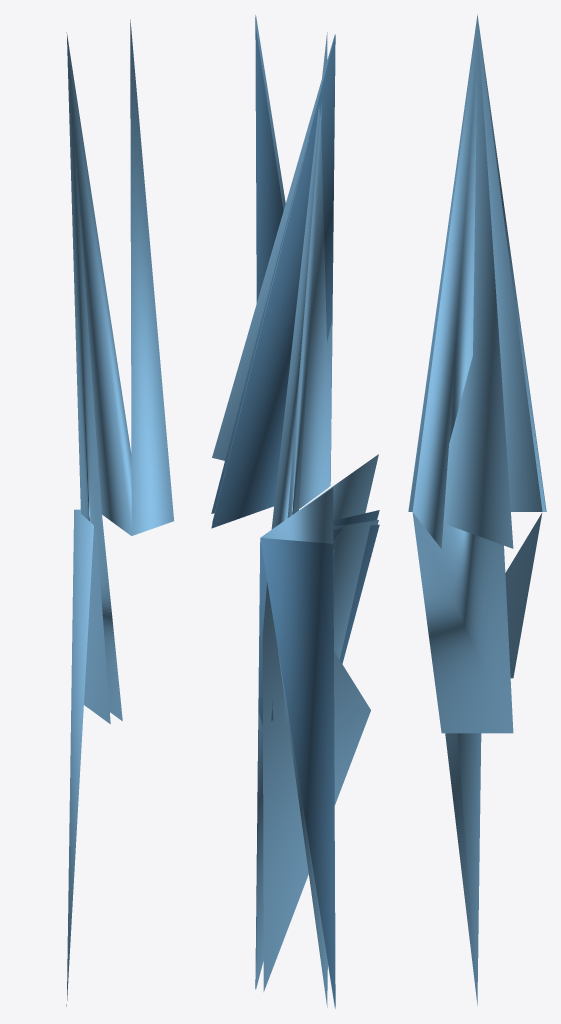
Rendered from equip_legs_rune_platelegs.glb.
3 renders of one model, left to right at view 1: azimuth 30°, elevation 25°; view 2: azimuth 150°, elevation 25°; view 3: azimuth 270°, elevation 25°, orthographic.
Visible parts, largest first — view 1: equip_legs_rune_platelegs; view 2: equip_legs_rune_platelegs; view 3: equip_legs_rune_platelegs.
Boxes of the visible parts, x1,y1,x2,y2 form: equip_legs_rune_platelegs: [66, 19, 173, 1006]; equip_legs_rune_platelegs: [211, 15, 379, 1008]; equip_legs_rune_platelegs: [408, 14, 546, 1005].
Size of the model in its own units: 0.262 by 2 by 0.262.
